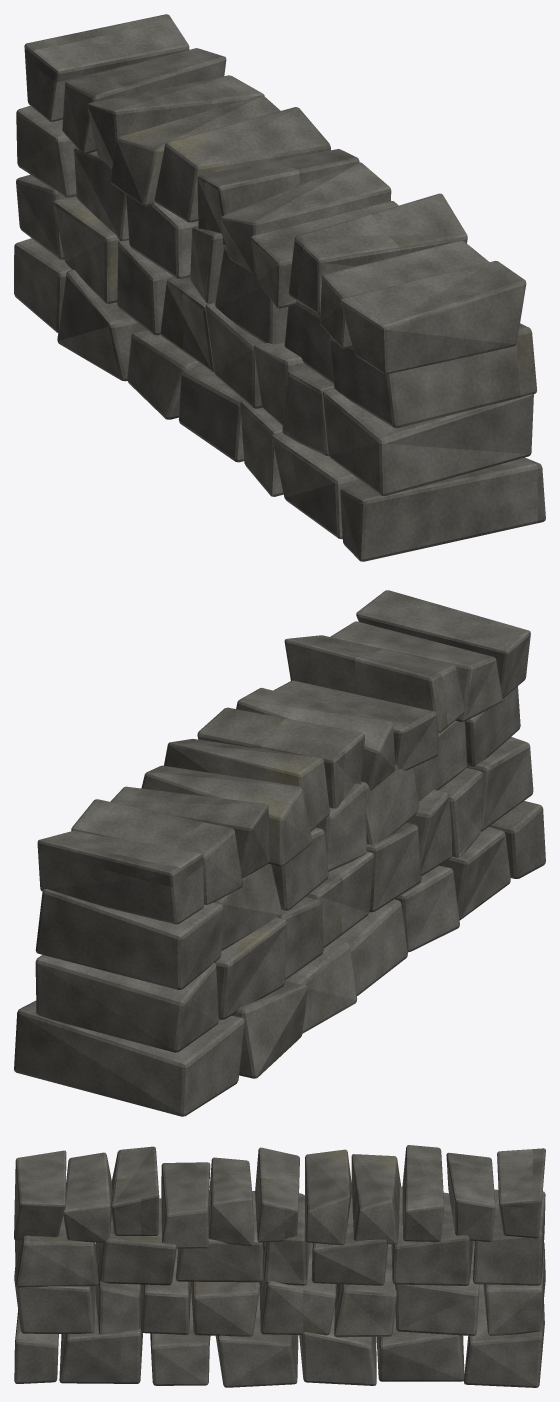
File: VergeWall_A_LOD0.fbx
3 renders of one model, top to bottom at view 1: azimuth 30°, elevation 25°; view 2: azimuth 150°, elevation 25°; view 3: azimuth 270°, elevation 25°, orthographic. The views are drawn at different scales.
Visible parts, largest first — view 1: VergeWall_A_LOD0; view 2: VergeWall_A_LOD0; view 3: VergeWall_A_LOD0.
Part boxes in pixels (left/top/right/bottom): VergeWall_A_LOD0: left=14, top=14, right=545, bottom=561; VergeWall_A_LOD0: left=14, top=590, right=545, bottom=1116; VergeWall_A_LOD0: left=14, top=1145, right=545, bottom=1387.
Bounding box in the file's own units: 0.7495 × 0.942 × 2.41.
